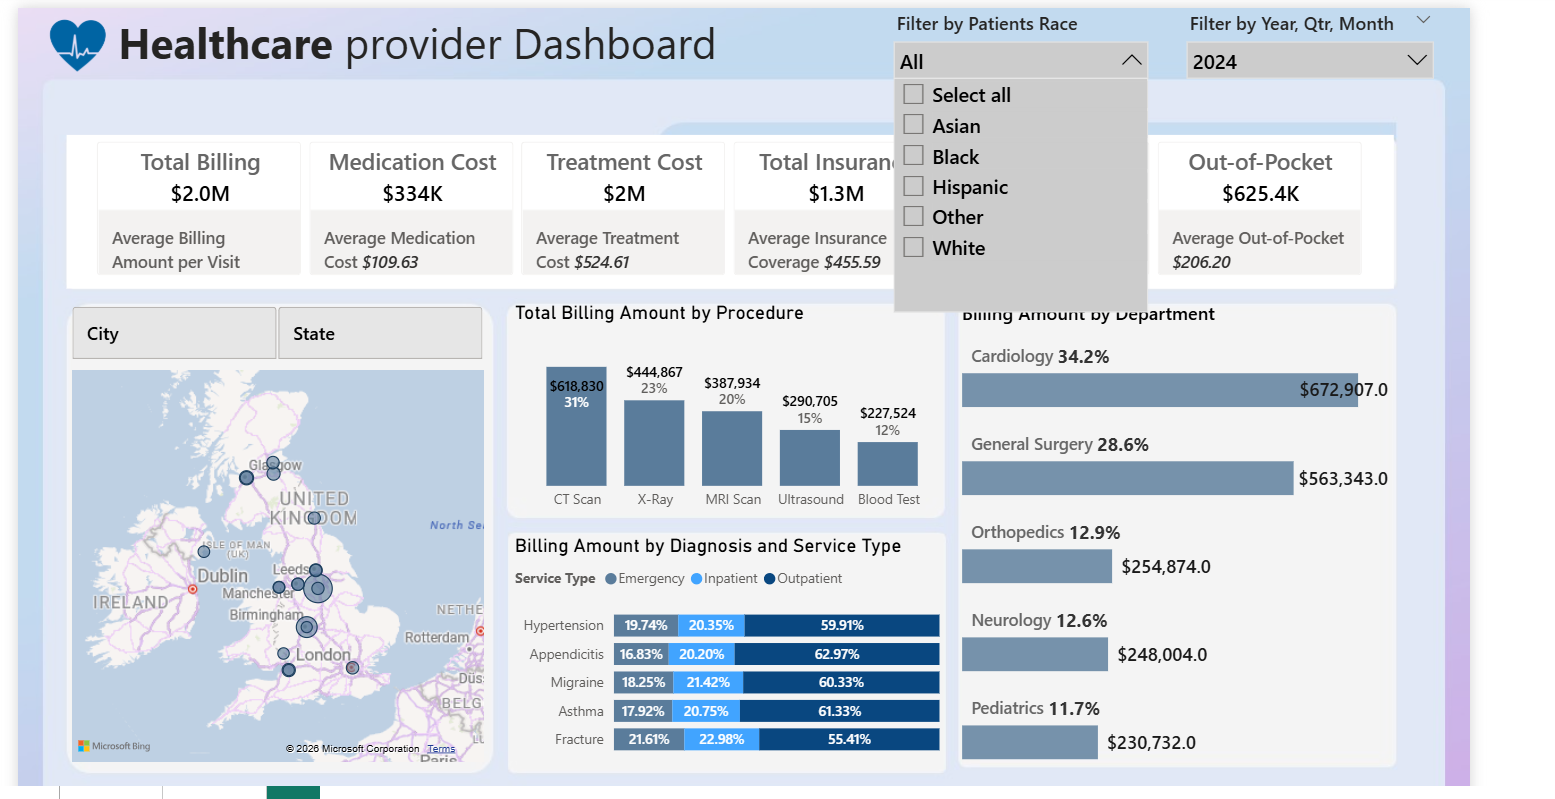

The page's visual inventory and layout, read from the dashboard file:
{"tool":"powerbi","page":{"name":"Page 2","canvas":[1280,720],"ordinal":1},"visuals":[{"type":"cardVisual","fields":{"Data":["DAX Calculation.Total Billing Amount","DAX Calculation.Total Medication Cost","DAX Calculation.Total Treatment Cost","DAX Calculation.Total Insurance Covered","DAX Calculation.Total Room Charges","DAX Calculation.Out-of-Pocket"]},"box":[42.9,111.4,1170,135.7],"z":0},{"type":"clusteredColumnChart","fields":{"Category":["procedures.Procedure"],"Y":["DAX Calculation.Total Billing Amount"]},"box":[432.9,258.6,394.3,192.9],"z":1000},{"type":"hundredPercentStackedBarChart","title":" Billing Amount by Diagnosis and Service Type","fields":{"Y":["DAX Calculation.Total Billing Amount"],"Category":["diagnoses.Diagnosis"],"Series":["visits.Service Type"]},"box":[432.9,464.3,384.3,205.7],"z":2000},{"type":"clusteredBarChart","title":" Billing Amount by Department","fields":{"Category":["departments.Department"],"Y":["DAX Calculation.Blank Measure","DAX Calculation.Total Billing Amount"]},"box":[827.1,258.6,385.7,411.4],"z":3000},{"type":"advancedSlicerVisual","fields":{"Values":["Patients Location Switch.Patients Location Switch"]},"box":[42.4,258.4,373.3,56.1],"z":4000},{"type":"map","title":" Billing Amount by City and State","fields":{"Category":["cities.City","cities.State"],"Size":["DAX Calculation.Total Billing Amount"]},"box":[42.9,314.3,372.9,355.7],"z":5000},{"type":"textbox","box":[83.4,0,541.5,68.4],"z":6000},{"type":"slicer","fields":{"Values":["patients.Race"]},"box":[761.6,0,244.8,67],"z":6001},{"type":"slicer","fields":{"Values":["DataTable.Year","DataTable.Qtr","DataTable.Month"]},"box":[1020,0,237.9,67],"z":6002},{"type":"image","box":[8.2,0,87.5,67],"z":6003}]}

Visuals, with their boxes on the page's 1280x720 design canvas (x1, y1, x2, y2). These are canvas units, not pixel positions in the 1555x799 screenshot, which may show the page scaled, cropped or inside an application window:
cardVisual - DAX Calculation.Total Billing Amount x DAX Calculation.Total Medication Cost: BBox(43, 111, 1213, 247)
clusteredColumnChart - procedures.Procedure x DAX Calculation.Total Billing Amount: BBox(433, 259, 827, 452)
" Billing Amount by Diagnosis and Service Type" hundredPercentStackedBarChart: BBox(433, 464, 817, 670)
" Billing Amount by Department" clusteredBarChart: BBox(827, 259, 1213, 670)
advancedSlicerVisual - Patients Location Switch.Patients Location Switch: BBox(42, 258, 416, 314)
" Billing Amount by City and State" map: BBox(43, 314, 416, 670)
textbox: BBox(83, 0, 625, 68)
slicer - patients.Race: BBox(762, 0, 1006, 67)
slicer - DataTable.Year x DataTable.Qtr: BBox(1020, 0, 1258, 67)
image: BBox(8, 0, 96, 67)
